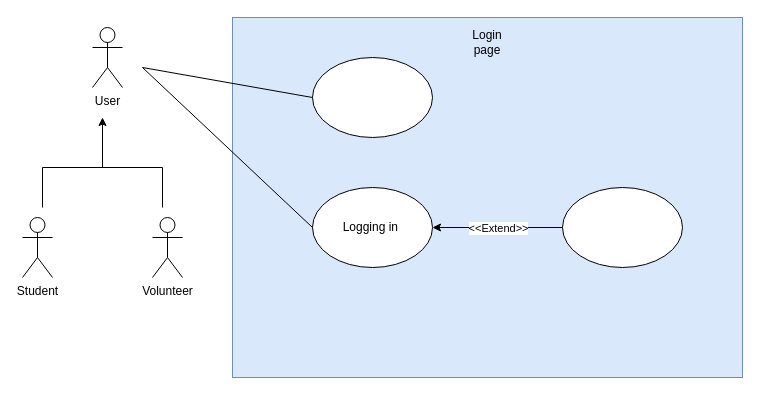
The diagram is 760 pixels wide and 395 high, and some of its shapes have lost their labels. Here are the shapes that lost their labels. From the top down, the box of each, then its label:
(312, 56, 432, 138): Account creation
(562, 186, 682, 268): Recover lost password
